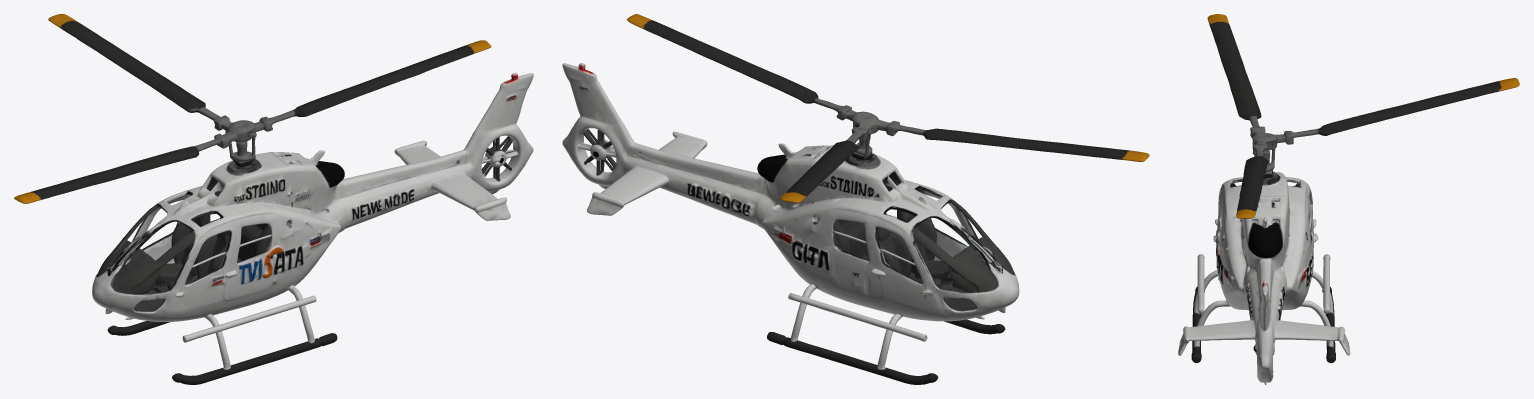
The model's file is 095_news_helicopter_white.glb.
3 renders of one model, left to right at view 1: azimuth 30°, elevation 25°; view 2: azimuth 150°, elevation 25°; view 3: azimuth 270°, elevation 25°, orthographic. The views are drawn at different scales.
Parts seen in each view (by area): view 1: geometry_0; view 2: geometry_0; view 3: geometry_0.
Part boxes in pixels (x1,y1,x2,y2): geometry_0: [14, 14, 533, 384]; geometry_0: [562, 14, 1149, 384]; geometry_0: [1178, 14, 1519, 384].
Bounding box in the file's own units: 12 × 5.27 × 6.73.
Materials: 1 (1 with a texture image).
